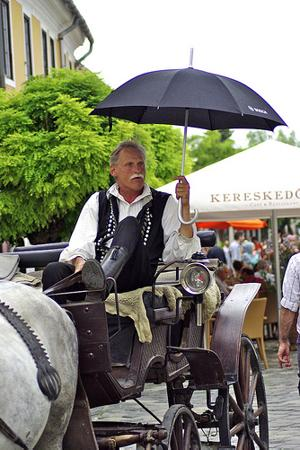person: (60, 139, 203, 303)
